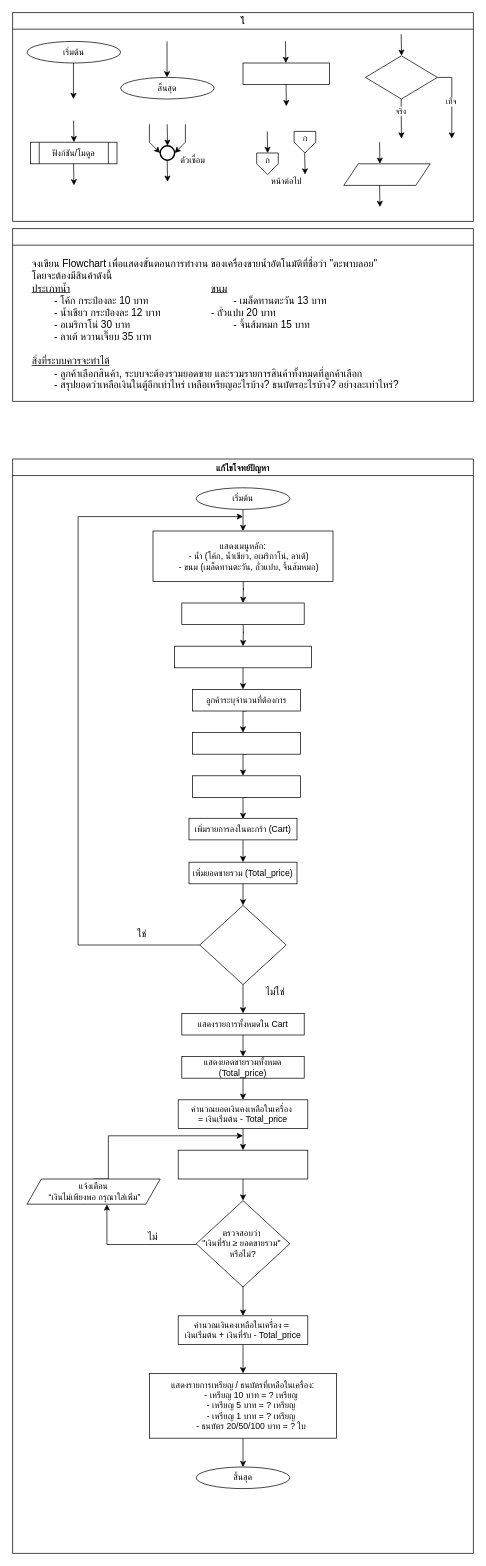
Some shapes in this 486 by 1566 pixel diagram are drawn without their labels. Here are the shapes that lost their labels. From the top down, the box of each, then its label:
(242, 62, 329, 85): กระบวนการ
(365, 55, 437, 99): ประโยคเงื่อนไข
(343, 163, 430, 185): แสดงผล/รับค่า
(12, 228, 473, 401): โจทย์ปัญหา
(181, 602, 304, 625): ลูกค้าเลือกสินค้า (น้ำ / ขนม)
(174, 645, 311, 668): แสดงรายการสินค้าในหมวดที่เลือก พร้อมราคา
(192, 732, 301, 754): ดึงราคาสินค้าต่อชิ้น จากฐานข้อมูล
(192, 775, 301, 797): คำนวณราคารวมของรายการ = จำนวน × ราคาต่อชิ้น
(199, 905, 286, 985): เลือกสินค้าต่อหรือไม่?
(177, 1149, 308, 1179): รับเงินจากลูกค้า (Input เงินเข้าเครื่อง)
